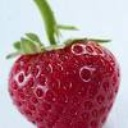strawberry: (5, 19, 120, 128)
